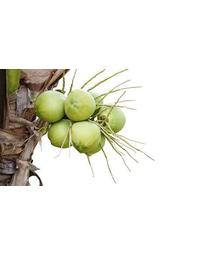coconut: (71, 122, 104, 155), (33, 89, 65, 122), (95, 102, 129, 133), (65, 89, 95, 121), (49, 121, 71, 150)
